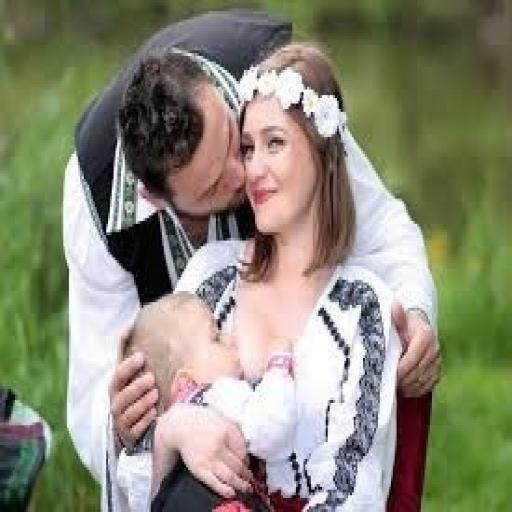hugging: (60, 8, 441, 510)
